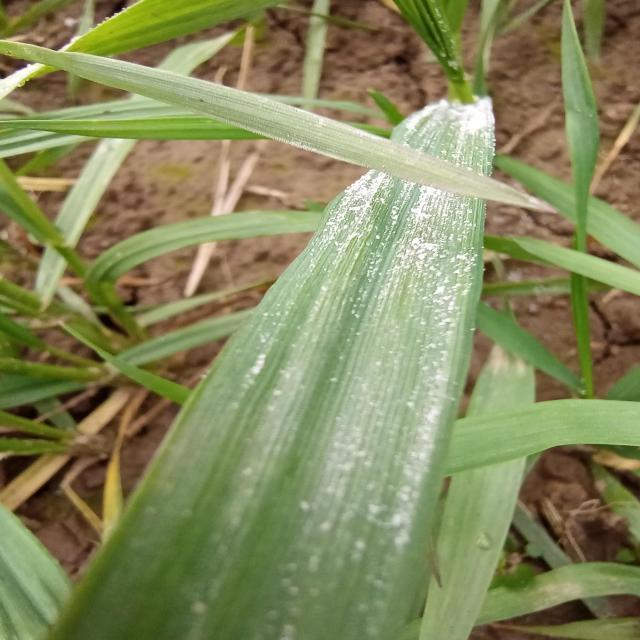Powdery Mildew: (81, 98, 505, 631)
